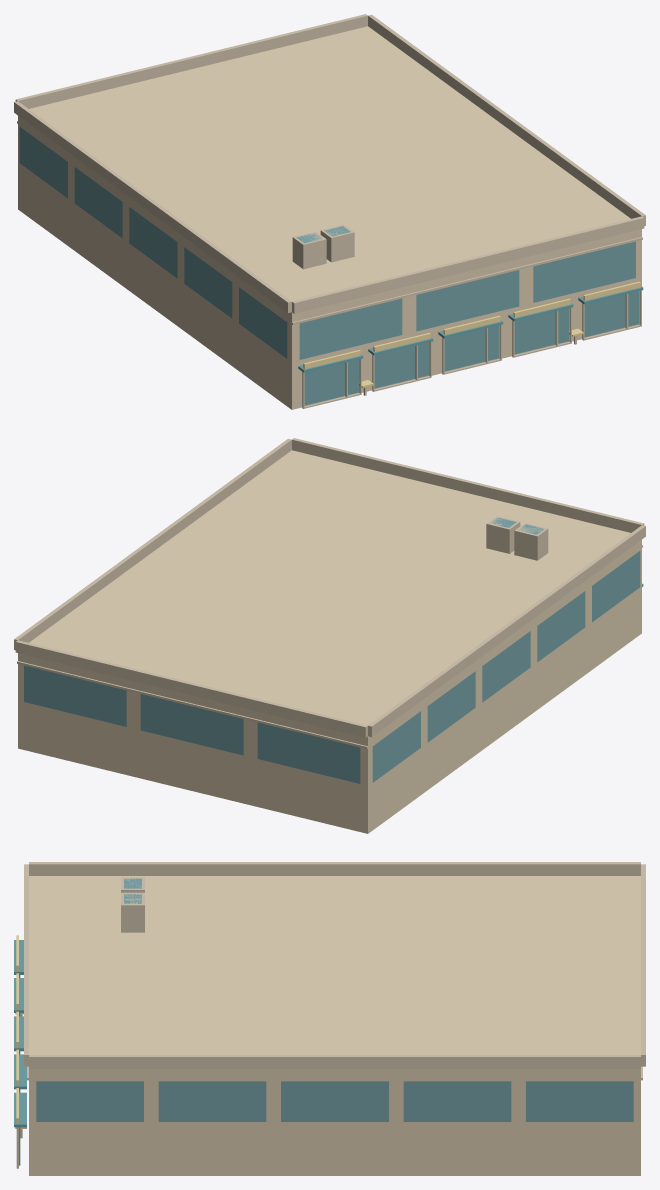
Rendered from commercial_3x4_a.glb.
The picture shows the model from 3 angles, top to bottom: view 1: azimuth 30°, elevation 25°; view 2: azimuth 150°, elevation 25°; view 3: azimuth 270°, elevation 25°; orthographic projection. The views are drawn at different scales.
Visible parts, largest first — view 1: commercial_3x4_a_0; view 2: commercial_3x4_a_0; view 3: commercial_3x4_a_0.
Boxes of the visible parts, left/top/right/bottom form: commercial_3x4_a_0: left=14, top=14, right=645, bottom=409; commercial_3x4_a_0: left=14, top=438, right=645, bottom=833; commercial_3x4_a_0: left=14, top=862, right=645, bottom=1175.
Bounding box in the file's own units: 23 × 7.5 × 31.5.
